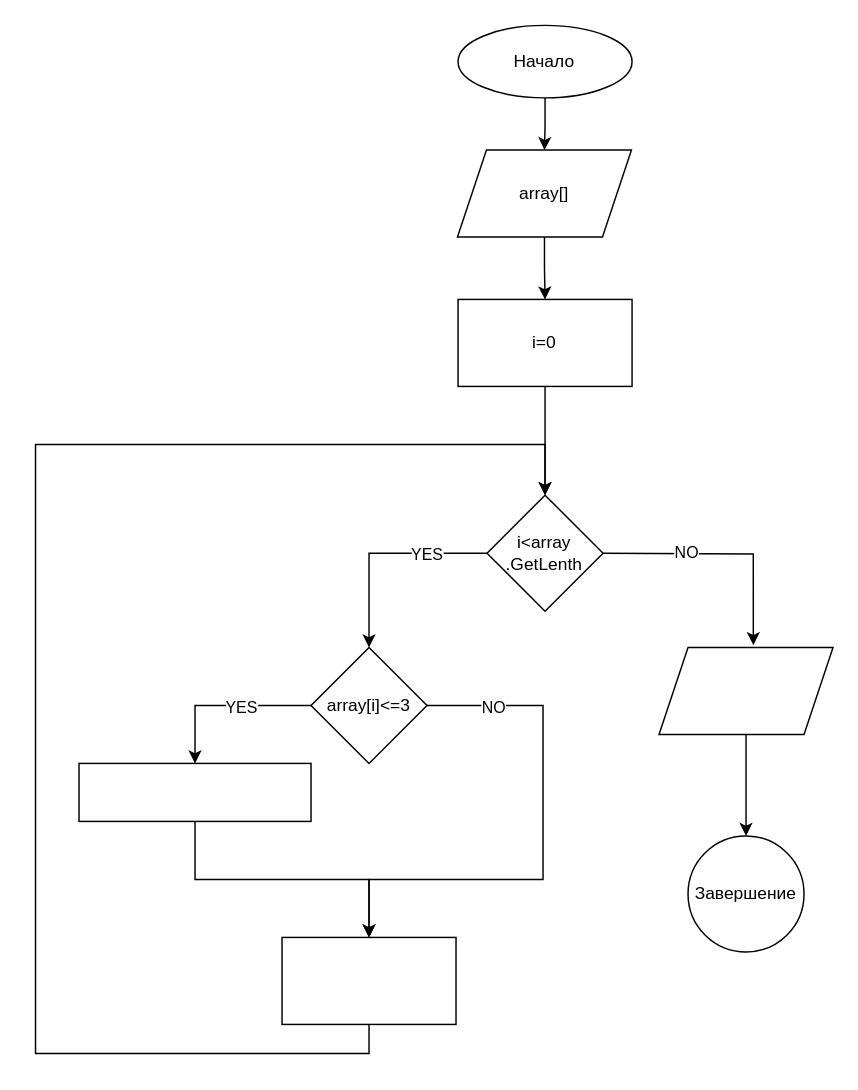
Some shapes in this 858 by 1090 pixel diagram are drawn without their labels. The shapes that lost their labels are listed below. From the top down, each one's box as (x1, y1, x2, y2) in pixels, then its label:
(658, 646, 833, 734): arrayNew[]
(78, 762, 311, 821): arrayNew[lentgh+1] = array[i]
(281, 936, 456, 1024): i++
